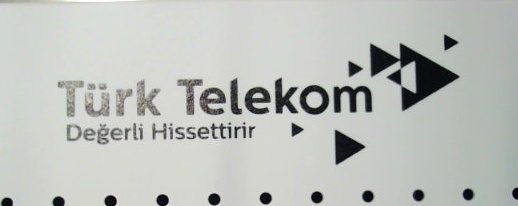AQ_TURKTelekom: (53, 32, 462, 165)
